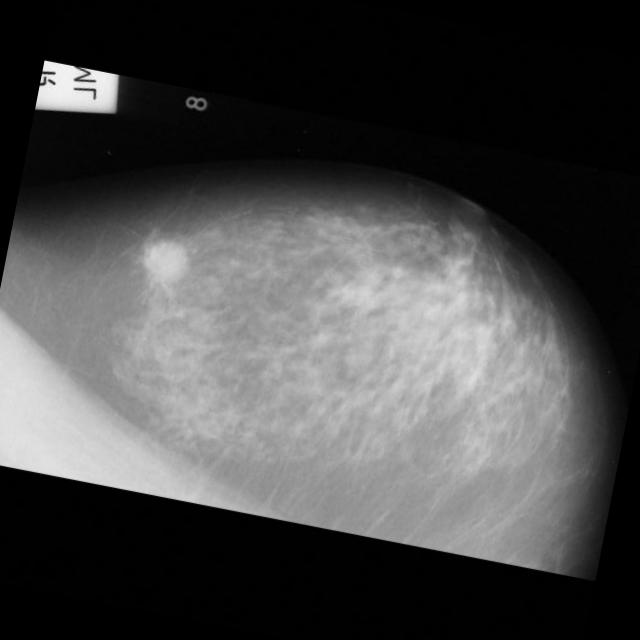SPIC: (138, 234, 194, 288)
